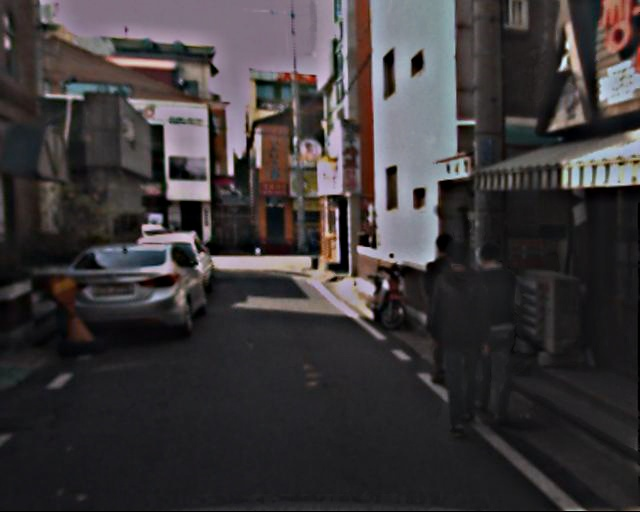person: (424, 240, 502, 431), (458, 246, 530, 422), (415, 235, 477, 386)
